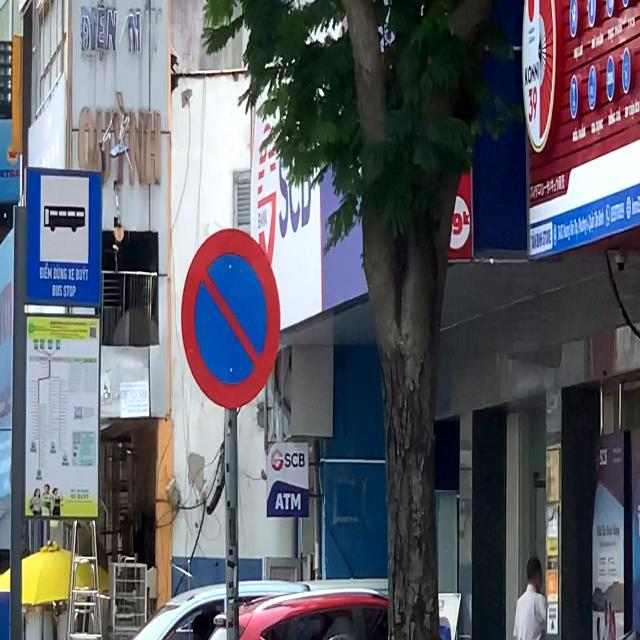P-131a: (181, 228, 280, 407)
